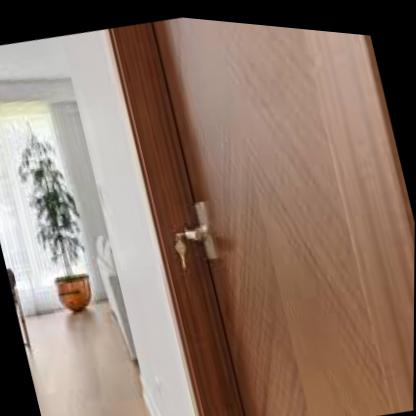Door: (108, 14, 415, 416)
